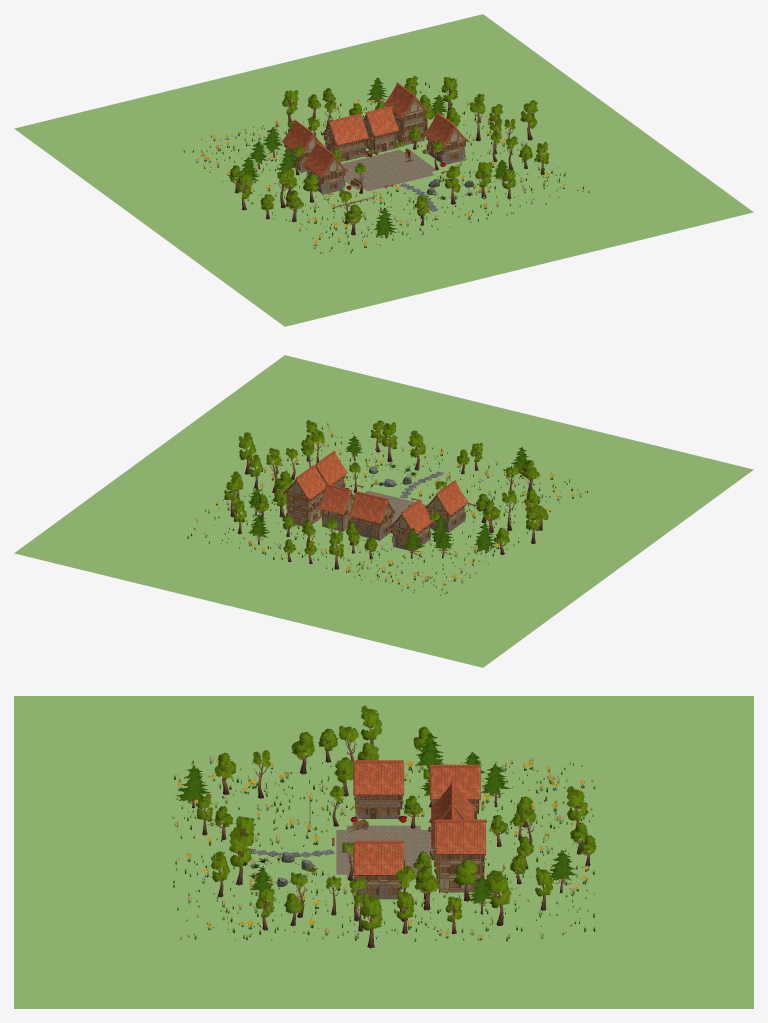
Rendered from village.glb.
3 views of the same model, one above another, from view 1: azimuth 30°, elevation 25°; view 2: azimuth 150°, elevation 25°; view 3: azimuth 270°, elevation 25° (orthographic). The views are drawn at different scales.
Parts seen in each view (by area): view 1: Sol_Herbe, Boulangerie_Roof_RoundTiles_6x8.001, Pharmacie_Roof_RoundTiles_6x6.001, Maison3_Roof_RoundTiles_6x8.001, Maison2_Roof_RoundTiles_6x8.001, Maison4_Roof_RoundTiles_6x8.001, Maison1_Roof_RoundTiles_6x8.001; view 2: Sol_Herbe, Boulangerie_Roof_RoundTiles_6x8.001, Pharmacie_Roof_RoundTiles_6x6.001, Maison3_Roof_RoundTiles_6x8.001, Maison2_Roof_RoundTiles_6x8.001, Maison1_Roof_RoundTiles_6x8.001, Maison4_Roof_RoundTiles_6x8.001; view 3: Sol_Herbe, Maison3_Roof_RoundTiles_6x8.001, Maison2_Roof_RoundTiles_6x8.001, Maison4_Roof_RoundTiles_6x8.001, Maison1_Roof_RoundTiles_6x8.001, Boulangerie_Roof_RoundTiles_6x8.001, Arbre_CommonTree_3.008, Arbre_CommonTree_3.003, Arbre_CommonTree_3.011, Arbre_Pine_2.002, Arbre_CommonTree_1.004, Arbre_CommonTree_2.010 (+6 smaller).
Boxes of the visible parts, x1=… form: Sol_Herbe: x1=14, y1=14, x2=753, y2=326; Boulangerie_Roof_RoundTiles_6x8.001: x1=322, y1=113, x2=368, y2=146; Pharmacie_Roof_RoundTiles_6x6.001: x1=363, y1=106, x2=399, y2=137; Maison3_Roof_RoundTiles_6x8.001: x1=303, y1=142, x2=347, y2=177; Maison2_Roof_RoundTiles_6x8.001: x1=383, y1=82, x2=428, y2=118; Maison4_Roof_RoundTiles_6x8.001: x1=424, y1=112, x2=468, y2=148; Maison1_Roof_RoundTiles_6x8.001: x1=281, y1=119, x2=326, y2=155; Sol_Herbe: x1=14, y1=355, x2=753, y2=667; Boulangerie_Roof_RoundTiles_6x8.001: x1=348, y1=491, x2=395, y2=523; Pharmacie_Roof_RoundTiles_6x6.001: x1=318, y1=484, x2=354, y2=514; Maison3_Roof_RoundTiles_6x8.001: x1=425, y1=480, x2=468, y2=516; Maison2_Roof_RoundTiles_6x8.001: x1=283, y1=465, x2=325, y2=500; Maison1_Roof_RoundTiles_6x8.001: x1=389, y1=499, x2=433, y2=533; Maison4_Roof_RoundTiles_6x8.001: x1=315, y1=451, x2=347, y2=484; Sol_Herbe: x1=14, y1=696, x2=753, y2=1008; Maison3_Roof_RoundTiles_6x8.001: x1=353, y1=760, x2=404, y2=795; Maison2_Roof_RoundTiles_6x8.001: x1=435, y1=819, x2=485, y2=854; Maison4_Roof_RoundTiles_6x8.001: x1=353, y1=840, x2=404, y2=875; Maison1_Roof_RoundTiles_6x8.001: x1=429, y1=764, x2=480, y2=800; Boulangerie_Roof_RoundTiles_6x8.001: x1=431, y1=781, x2=474, y2=828; Arbre_CommonTree_3.008: x1=360, y1=894, x2=382, y2=948; Arbre_CommonTree_3.003: x1=487, y1=871, x2=511, y2=925; Arbre_CommonTree_3.011: x1=228, y1=830, x2=251, y2=885; Arbre_Pine_2.002: x1=176, y1=765, x2=210, y2=808; Arbre_CommonTree_1.004: x1=454, y1=859, x2=478, y2=901; Arbre_CommonTree_2.010: x1=414, y1=865, x2=440, y2=910.
Bounding box in the file's own units: 140 × 14.19 × 140.
Materials: 24 (22 with a texture image).
